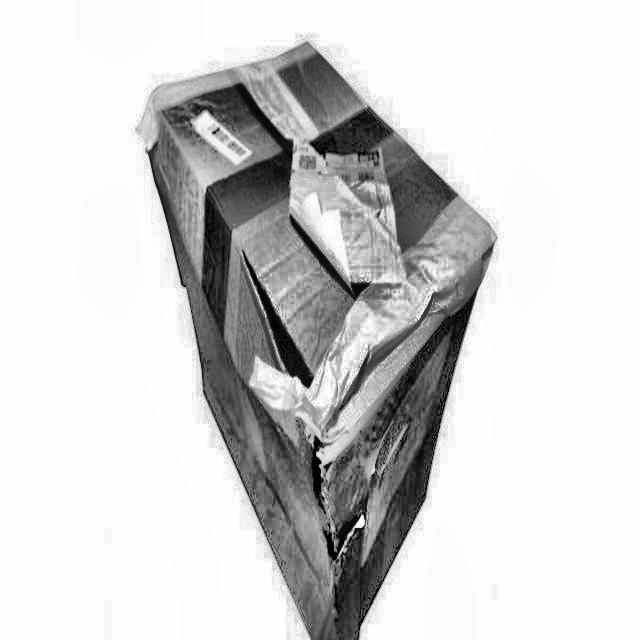box: (127, 19, 514, 639)
hole: (240, 248, 332, 384)
